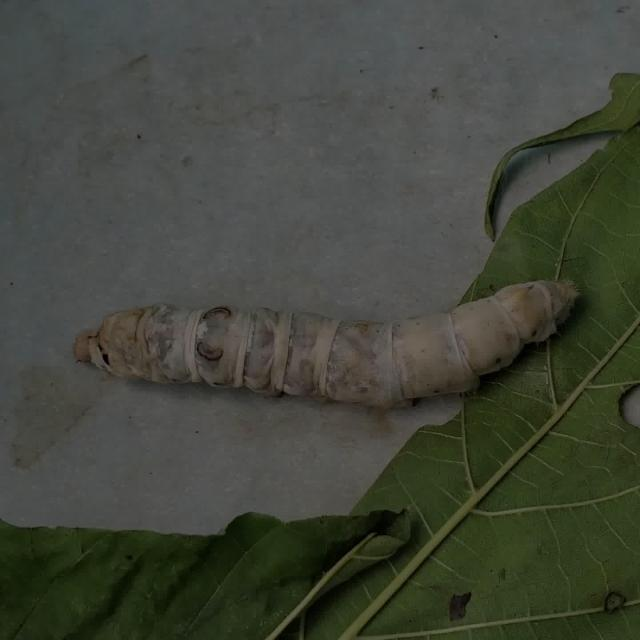Grasserie: (46, 242, 594, 456)
